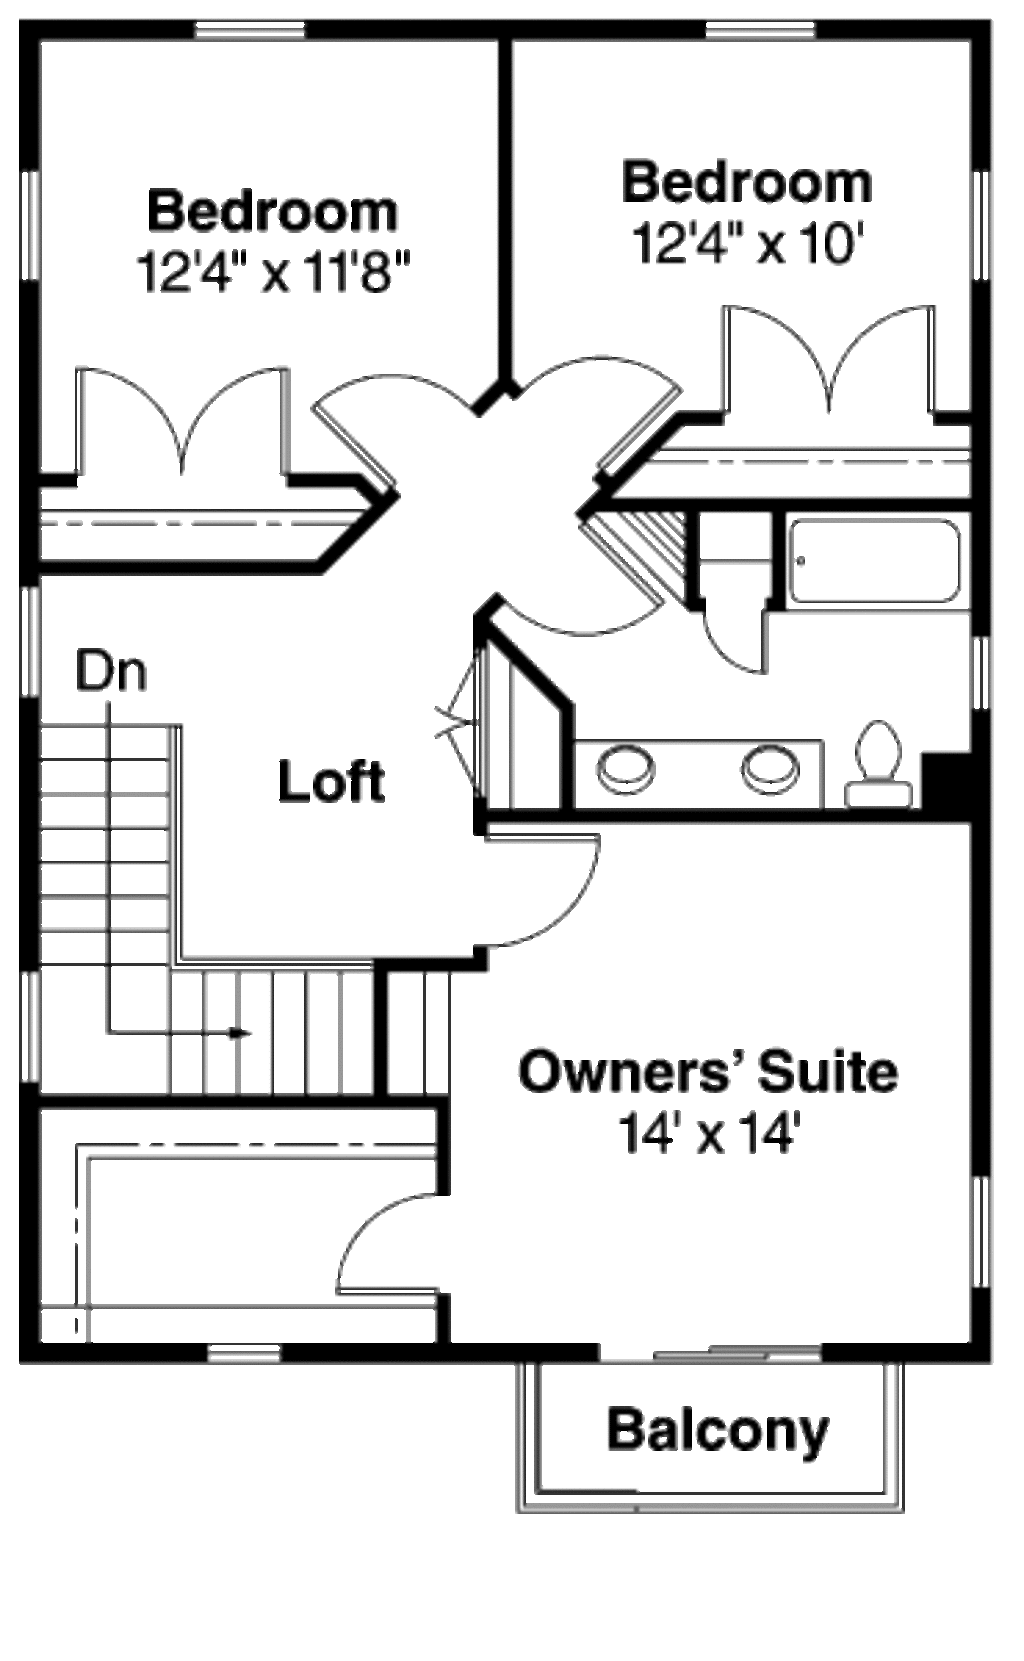door: (723, 295, 950, 424), (68, 354, 300, 470), (500, 518, 669, 656), (309, 359, 475, 489), (515, 341, 681, 469), (472, 823, 605, 949), (333, 1188, 452, 1302), (700, 604, 778, 679)
large_sink: (837, 717, 921, 814)
small_sink: (571, 734, 829, 812)
stairs: (28, 720, 382, 1101)
tub: (786, 508, 971, 615)
window: (187, 12, 322, 50), (15, 581, 52, 707), (14, 163, 49, 295), (694, 17, 827, 50), (968, 160, 1000, 288), (14, 966, 46, 1083), (963, 628, 1007, 711), (192, 1337, 285, 1372), (969, 1166, 991, 1286)
